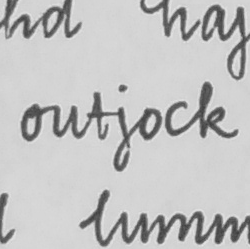c: (165, 98, 191, 138)
j: (109, 82, 133, 175)
k: (195, 78, 240, 142)
o: (18, 101, 46, 142), (135, 105, 163, 142)
t: (86, 89, 113, 144)
u: (48, 101, 81, 140)
